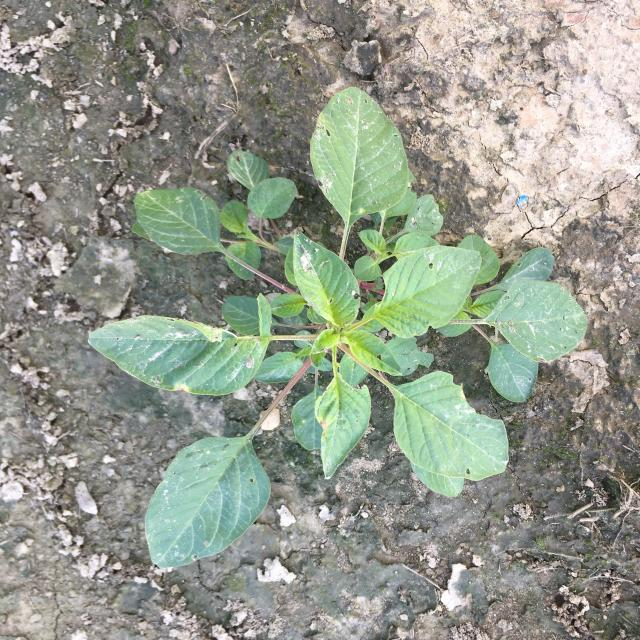PalmerAmaranth: (88, 87, 588, 568)
